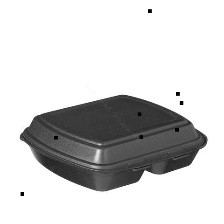foam_box: (15, 87, 212, 194)
